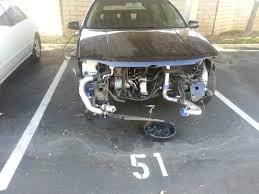Smashed: (75, 56, 217, 113)
